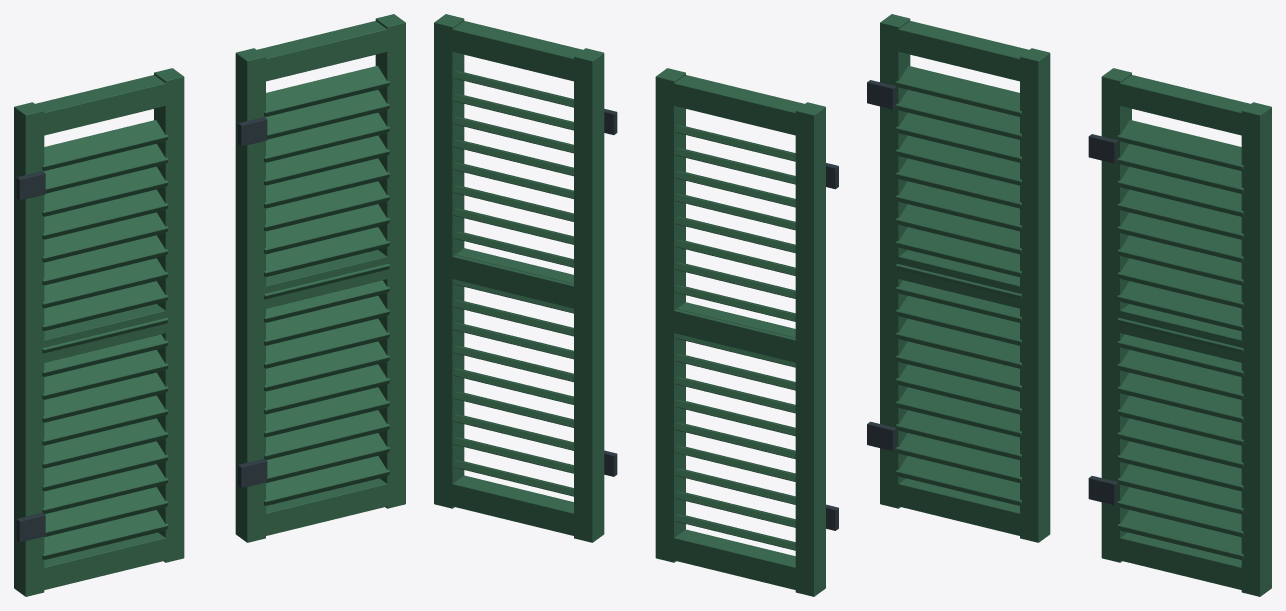
Rendered from b12_louvered_window_shutters.glb.
3 views of the same model, side by side, from view 1: azimuth 30°, elevation 25°; view 2: azimuth 150°, elevation 25°; view 3: azimuth 330°, elevation 25° (orthographic).
Visible parts, largest first — view 1: b12_louvered_window_shutters; view 2: b12_louvered_window_shutters; view 3: b12_louvered_window_shutters.
Part boxes in pixels (x1,y1,x2,y2): b12_louvered_window_shutters: (14, 14, 405, 596); b12_louvered_window_shutters: (434, 14, 838, 596); b12_louvered_window_shutters: (867, 14, 1271, 596).
Bounding box in the file's own units: 1.34 × 1.58 × 0.091.
